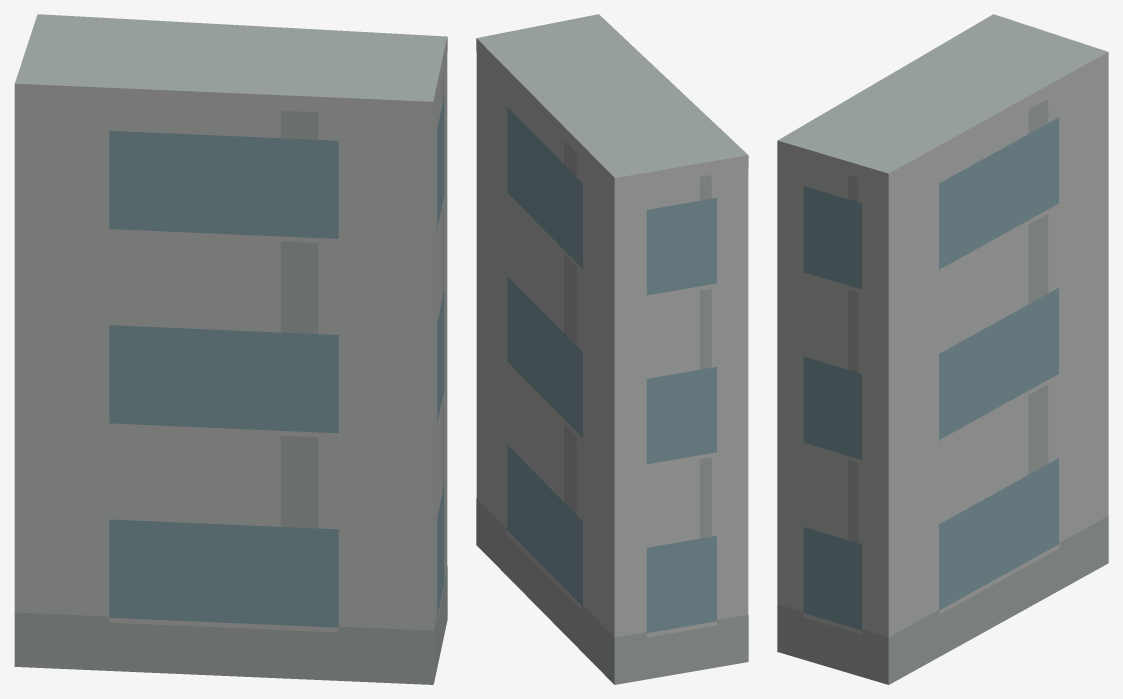
Rendered from survey-upis-32571548.glb.
The picture shows the model from 3 angles, left to right: view 1: azimuth 30°, elevation 25°; view 2: azimuth 150°, elevation 25°; view 3: azimuth 270°, elevation 25°; orthographic projection. The views are drawn at different scales.
Visible parts, largest first — view 1: survey-upis-32571548.tmp; view 2: survey-upis-32571548.tmp; view 3: survey-upis-32571548.tmp.
Part boxes in pixels (bbox=[...]): survey-upis-32571548.tmp: bbox=[14, 14, 447, 684]; survey-upis-32571548.tmp: bbox=[476, 14, 748, 684]; survey-upis-32571548.tmp: bbox=[777, 14, 1108, 684].
Bounding box in the file's own units: 6.13 × 9.15 × 5.38.
